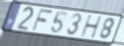2: (15, 6, 34, 32)
3: (66, 13, 83, 37)
5: (50, 11, 70, 35)
8: (99, 17, 115, 40)
F: (31, 8, 54, 32)
H: (80, 14, 103, 39)
